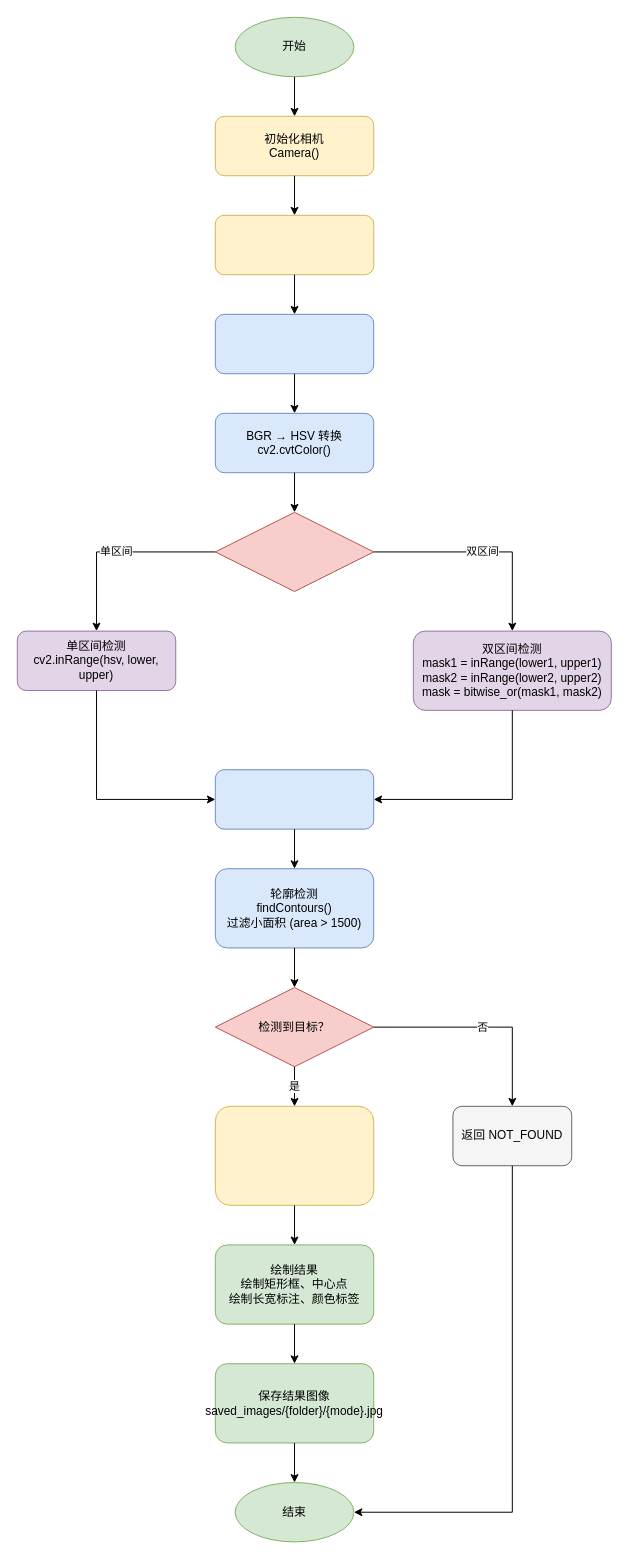
Some shapes in this 629 by 1559 pixel diagram are drawn without their labels. Each missing label, with the centre of its shape:
"加载配置文件 config.yaml" belongs at pixel 294 244.
"尺寸测量 minAreaRect() 计算旋转矩形 计算中心点 (cx, cy) 像素尺寸 → 实际尺寸" belongs at pixel 294 1155.
"形态学处理 MORPH_OPEN (去噪)" belongs at pixel 294 799.
"检测模式？" belongs at pixel 294 551.
"获取相机图像 getCameraData()" belongs at pixel 294 343.
